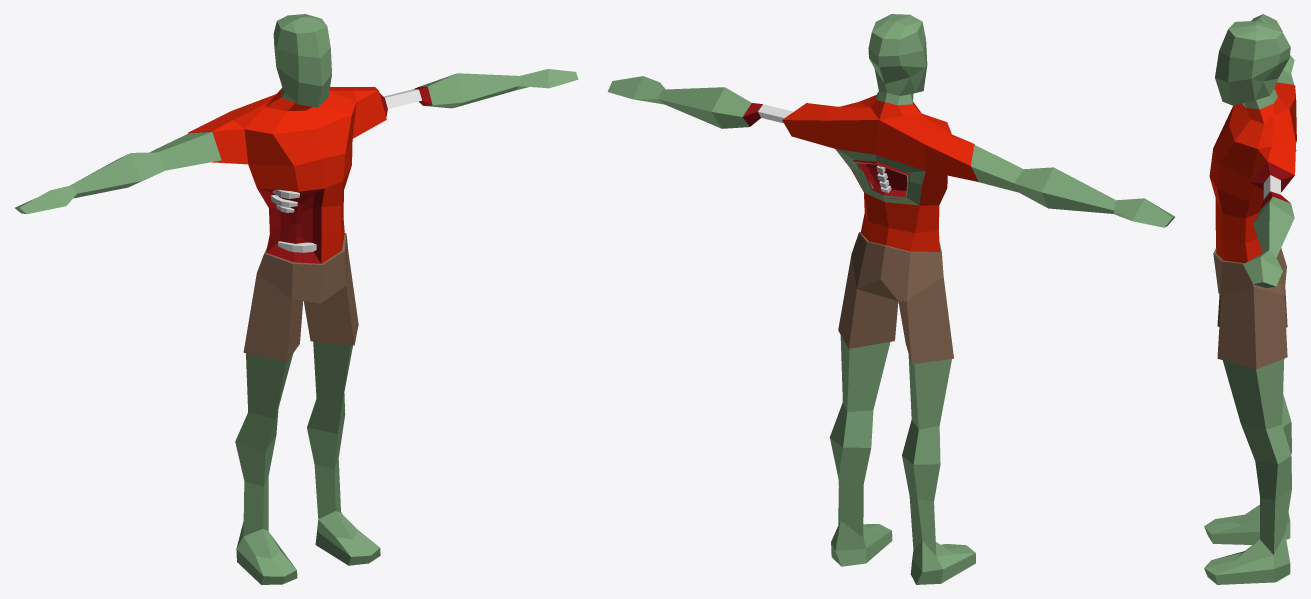
Rendered from Zombie With Shirt.fbx.
3 renders of one model, left to right at view 1: azimuth 30°, elevation 25°; view 2: azimuth 150°, elevation 25°; view 3: azimuth 270°, elevation 25°, orthographic. The views are drawn at different scales.
Visible parts, largest first — view 1: BASE_Low Poly Man; view 2: BASE_Low Poly Man; view 3: BASE_Low Poly Man.
Boxes of the visible parts, x1,y1,x2,y2 form: BASE_Low Poly Man: (15, 14, 578, 584); BASE_Low Poly Man: (607, 14, 1174, 584); BASE_Low Poly Man: (1204, 14, 1296, 584).
Bounding box in the file's own units: 400 × 370 × 58.57.
